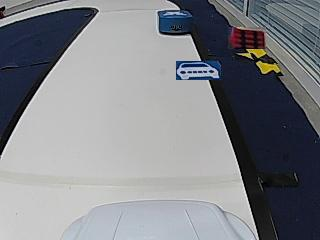prop: (158, 10, 192, 36)
